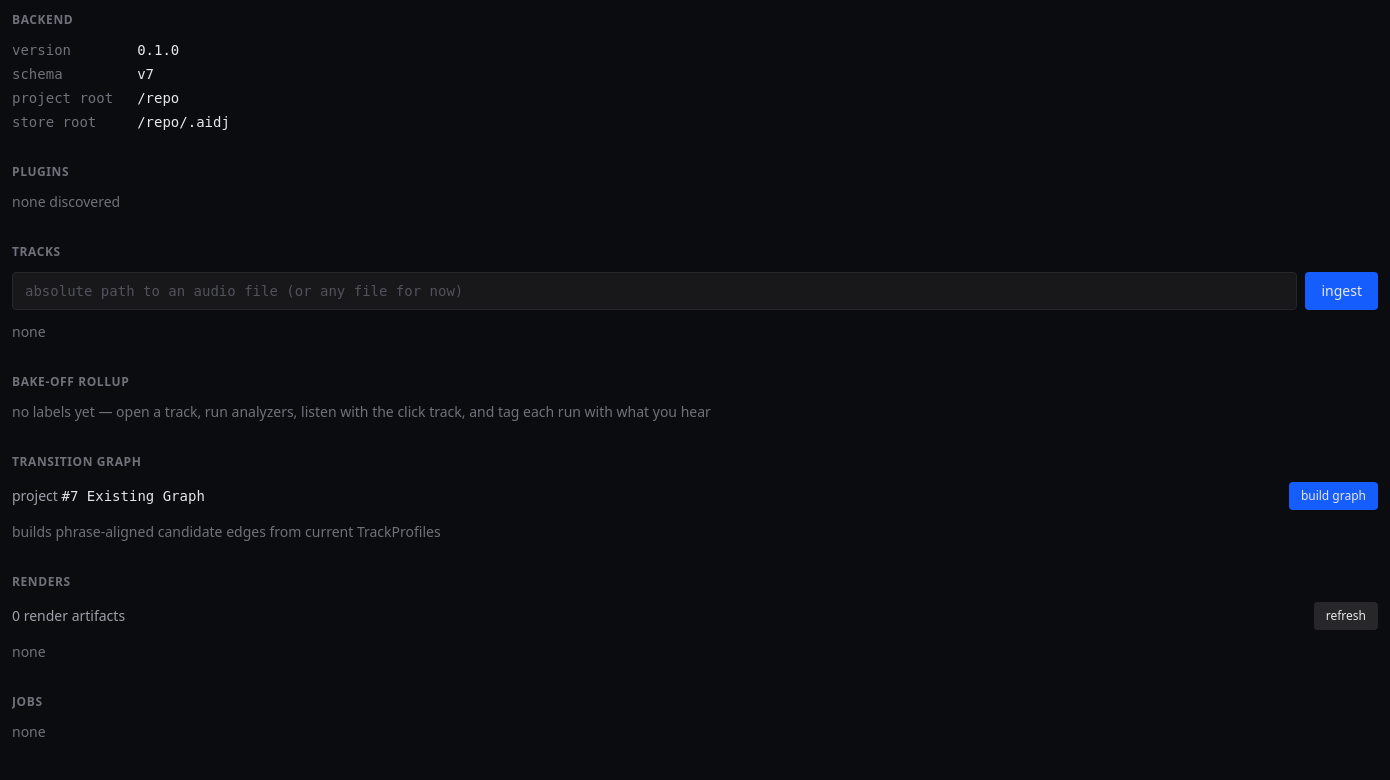
LibraryPage contract wiring › builds the transition graph with the intended public API defaults
Click the button "build graph" at (1333, 496), box [1289, 482, 1378, 510]
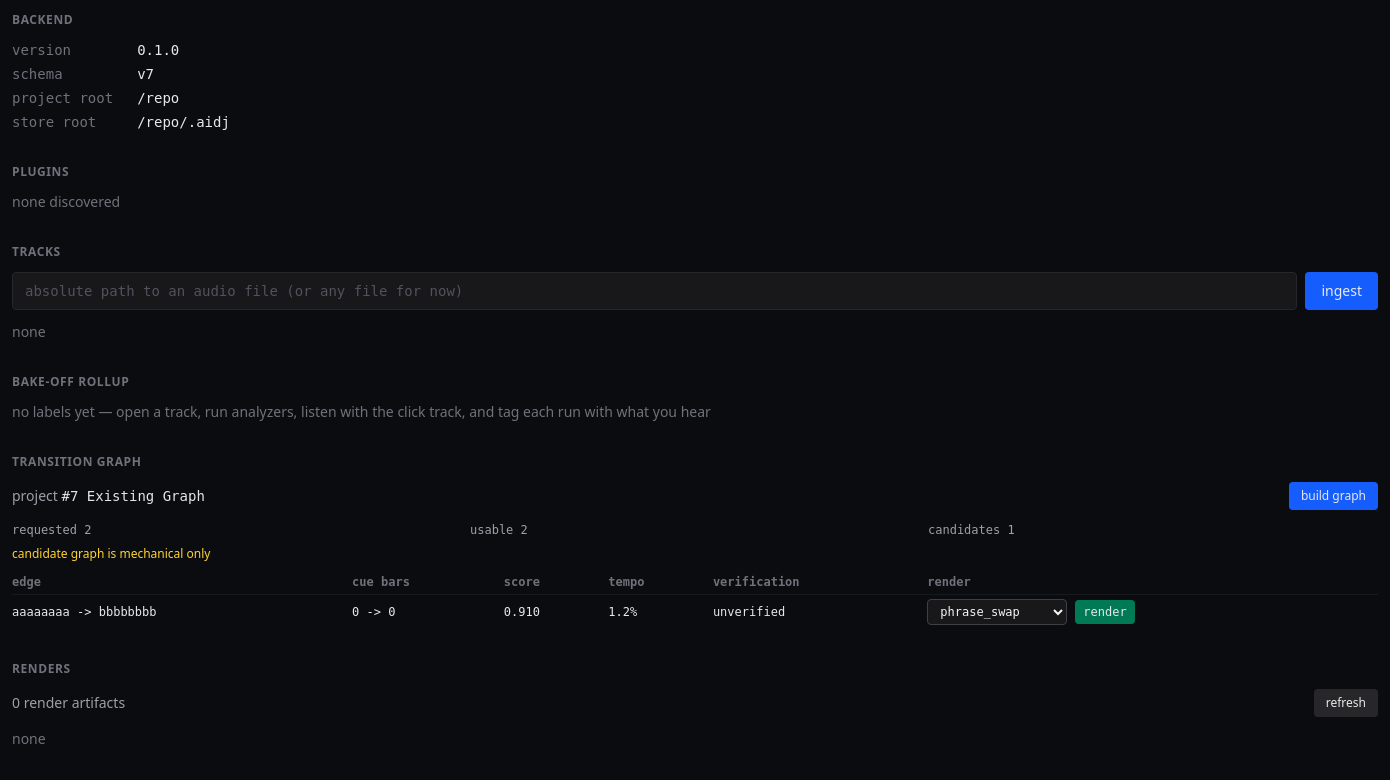
Now the text "requested 2" is shown, box [12, 523, 92, 537]
Now the text "usable 2" is shown, box [470, 523, 528, 537]
Now the text "candidates 1" is shown, box [928, 523, 1015, 537]
